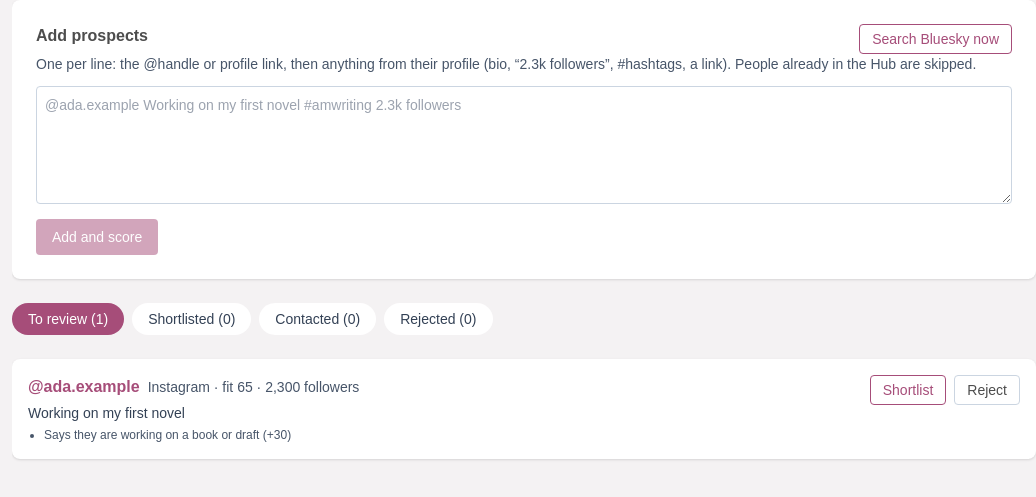
it: ProspectsView › shows a review error and an empty state
Click the button "Shortlist" at (908, 390), box x1=870 y1=375 x2=946 y2=405
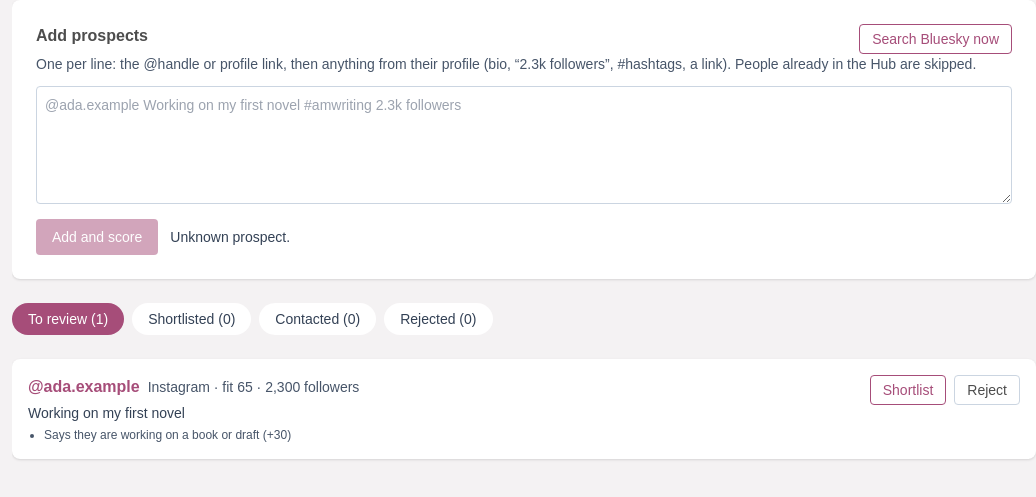
Check: the message reads "Unknown prospect.", box x1=170 y1=229 x2=290 y2=245
Click the tab "Contacted (0)" at (318, 319), box x1=259 y1=303 x2=376 y2=335
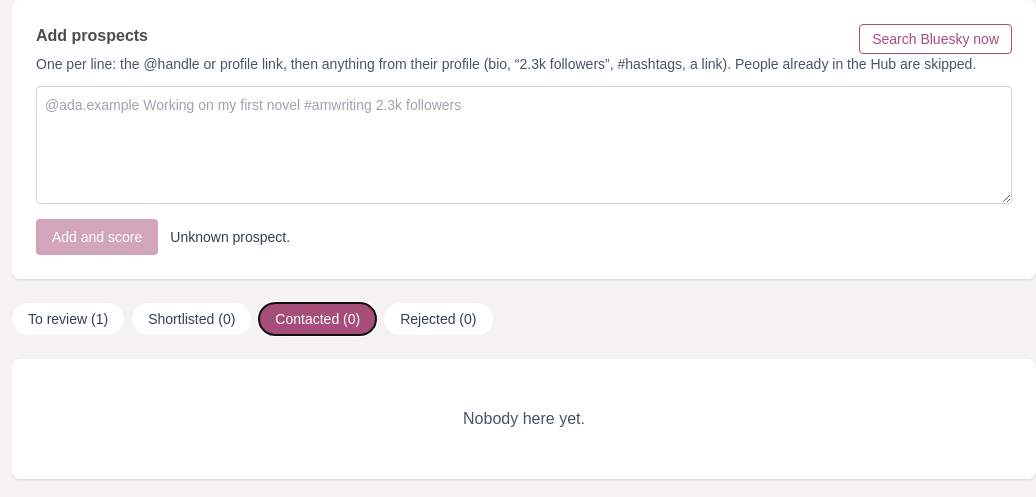
Check: the text "Nobody here yet." is shown, box x1=12 y1=359 x2=1035 y2=479
